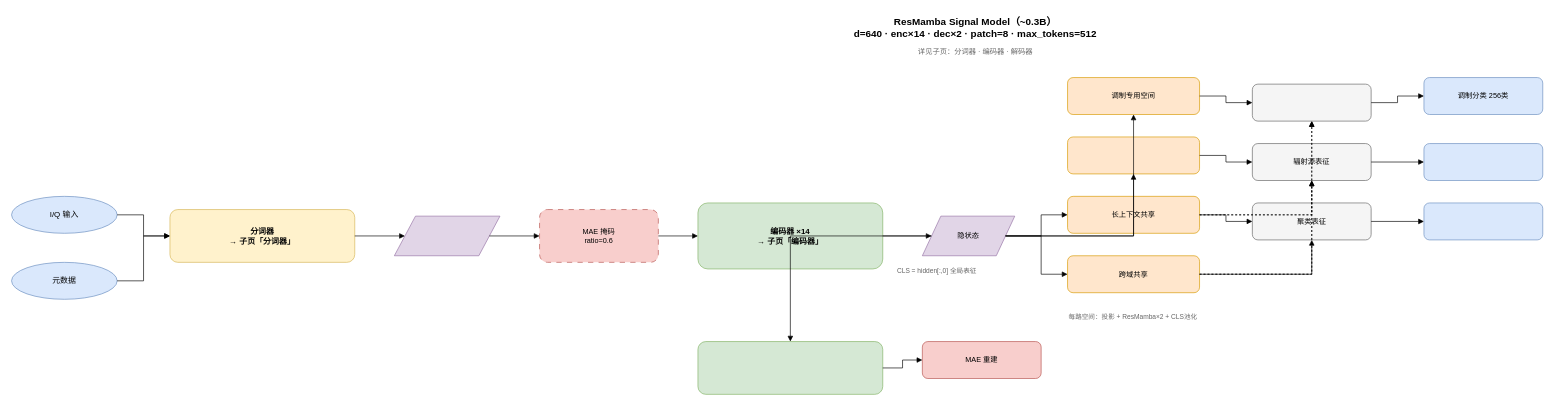
The diagram is 1554 pixels wide and 406 high, and some of its shapes have lost their labels. Each missing label, with the box of its shape:
Token 序列: (394, 215, 500, 256)
原型聚类 256: (1423, 202, 1543, 240)
解码器 ×2 → 子页「解码器」: (697, 341, 883, 394)
调制表征: (1252, 83, 1371, 121)
辐射源专用空间: (1067, 136, 1200, 174)
辐射源分类 512类: (1423, 143, 1543, 181)
